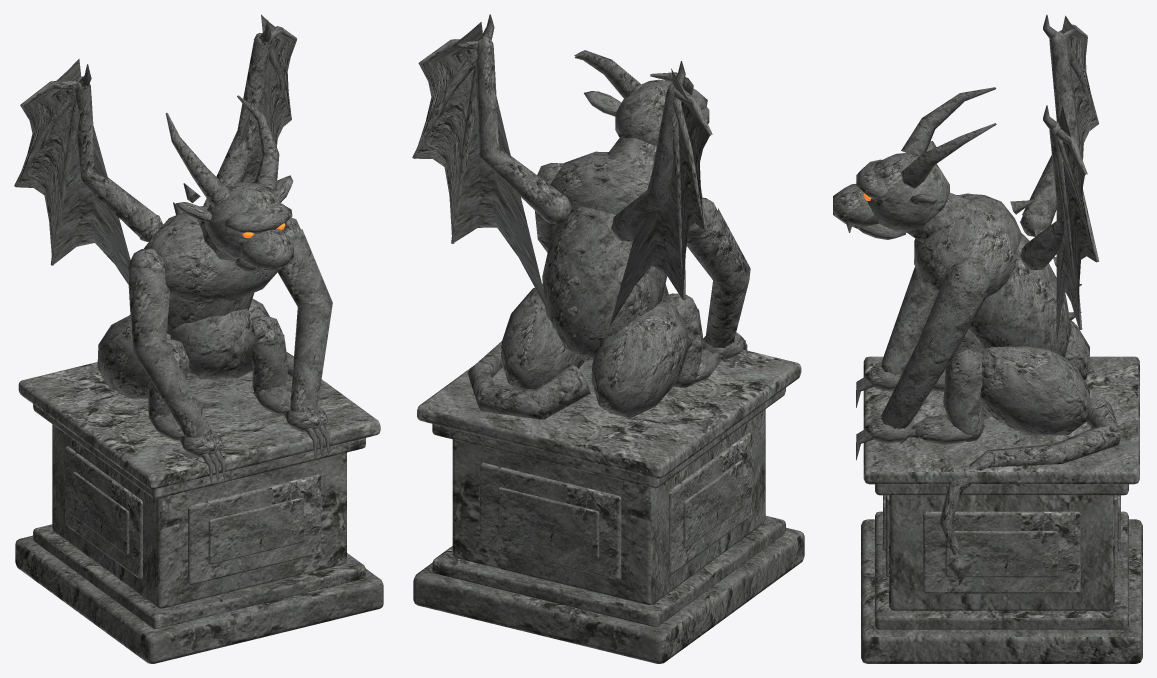
File: prop_gargoyle.glb
3 renders of one model, left to right at view 1: azimuth 30°, elevation 25°; view 2: azimuth 150°, elevation 25°; view 3: azimuth 270°, elevation 25°, orthographic. The views are drawn at different scales.
Visible parts, largest first — view 1: prop; view 2: prop; view 3: prop.
Part boxes in pixels (bbox=[...]): prop: bbox=[14, 14, 383, 663]; prop: bbox=[412, 14, 804, 663]; prop: bbox=[833, 14, 1142, 663].
Size of the model in its own units: 0.5853 by 1.07 by 0.5493.
3 materials, 2 textured.
